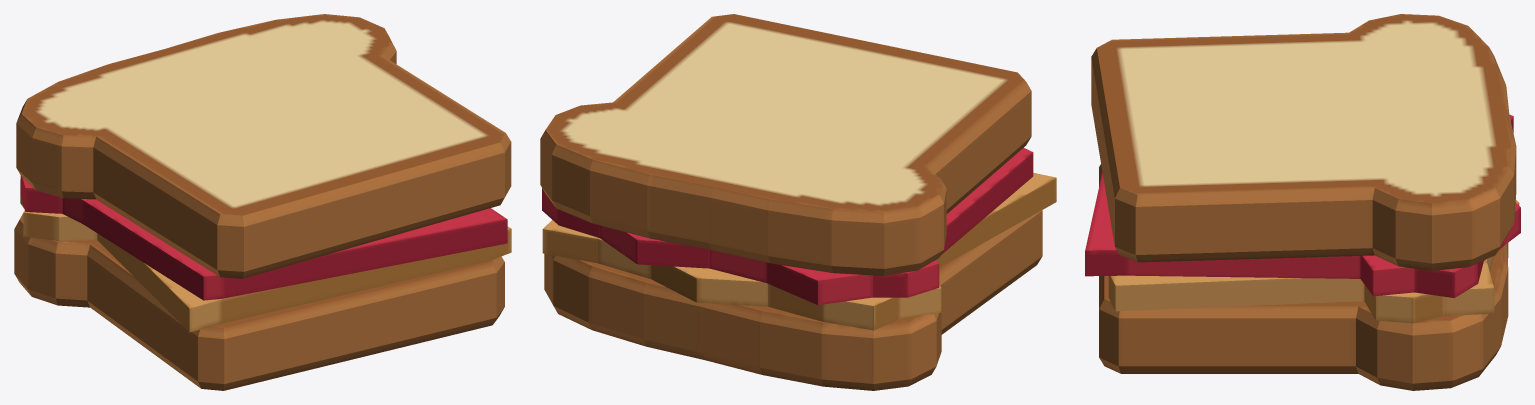
The model's file is PBJSandwich.fbx.
3 views of the same model, side by side, from view 1: azimuth 30°, elevation 25°; view 2: azimuth 150°, elevation 25°; view 3: azimuth 270°, elevation 25° (orthographic). The views are drawn at different scales.
Parts seen in each view (by area): view 1: PBJSandwich; view 2: PBJSandwich; view 3: PBJSandwich.
Part boxes in pixels (x1,y1,x2,y2): PBJSandwich: [14, 14, 511, 390]; PBJSandwich: [540, 14, 1056, 390]; PBJSandwich: [1085, 14, 1520, 390].
Size of the model in its own units: 263 by 116 by 246.
Materials: 1 (1 with a texture image).
